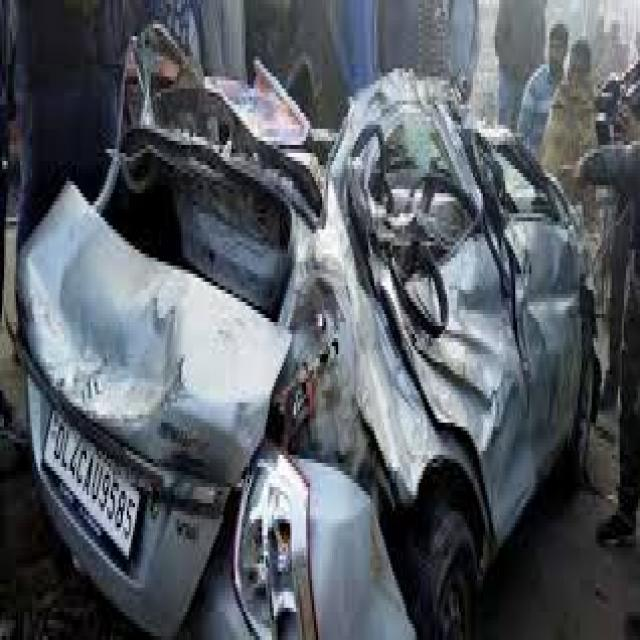accident: (24, 11, 607, 632)
